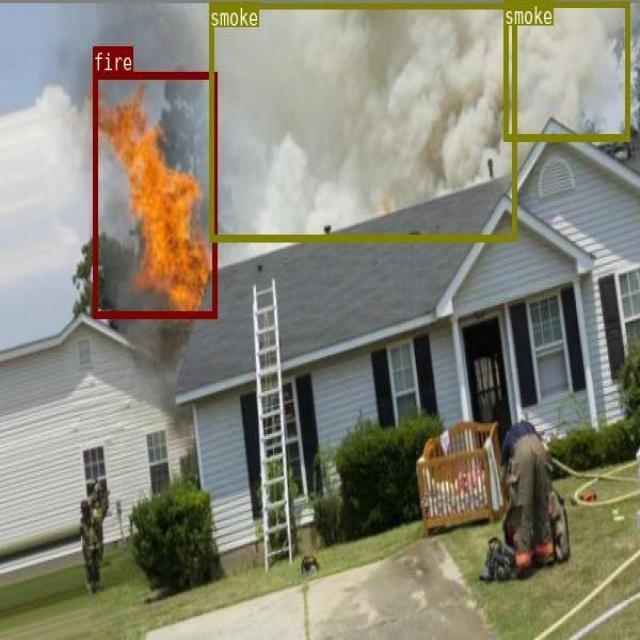fire: (92, 68, 216, 315)
smoke: (208, 0, 515, 238), (503, 0, 629, 139)
